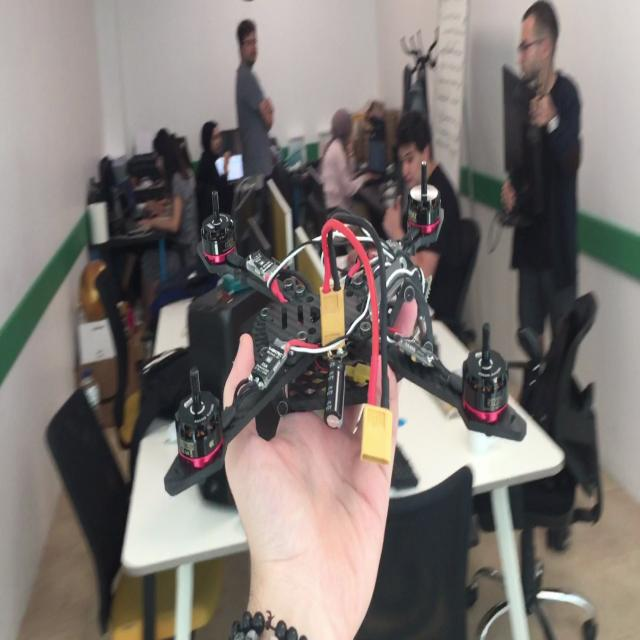drone: (162, 133, 534, 496)
